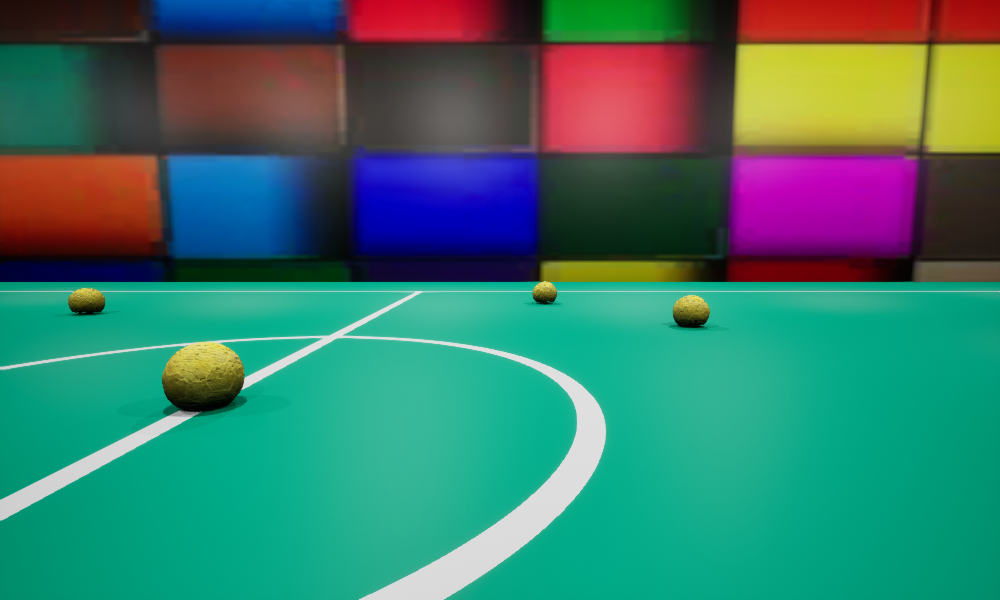b: (162, 342, 244, 410), (673, 295, 709, 327), (68, 288, 104, 314), (532, 281, 556, 303)
